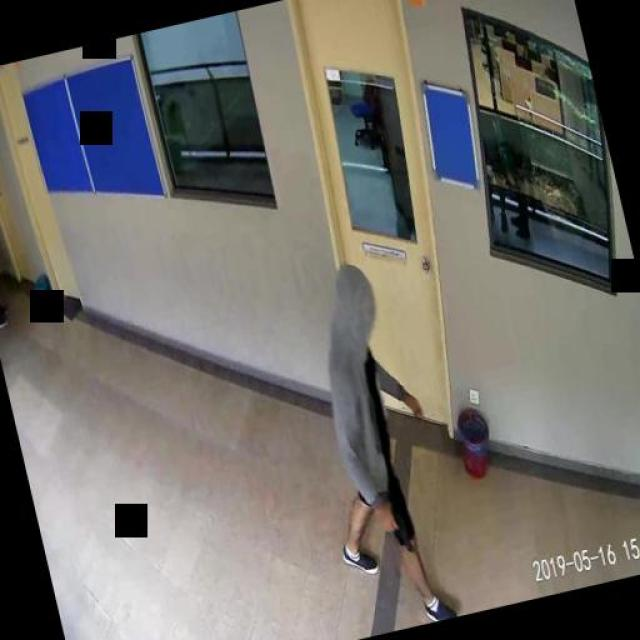gun: (378, 505, 412, 557)
